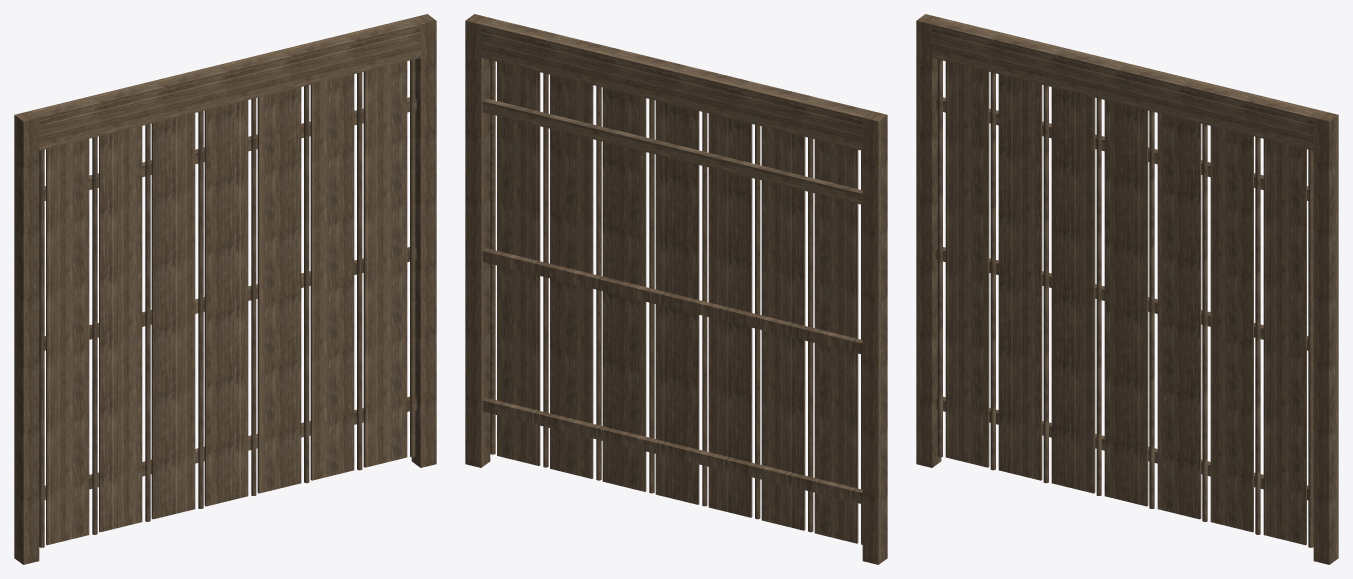
Rendered from ESyamatobei_h2000_brownebony.fbx.
3 renders of one model, left to right at view 1: azimuth 30°, elevation 25°; view 2: azimuth 150°, elevation 25°; view 3: azimuth 330°, elevation 25°, orthographic.
Visible parts, largest first — view 1: ESyamatobei_h2000_brownebony; view 2: ESyamatobei_h2000_brownebony; view 3: ESyamatobei_h2000_brownebony.
Boxes of the visible parts, x1=… form: ESyamatobei_h2000_brownebony: x1=14, y1=14, x2=436, y2=564; ESyamatobei_h2000_brownebony: x1=465, y1=14, x2=887, y2=564; ESyamatobei_h2000_brownebony: x1=916, y1=14, x2=1338, y2=564.
Size of the model in its own units: 195 by 200 by 7.5.
1 material, 1 textured.
